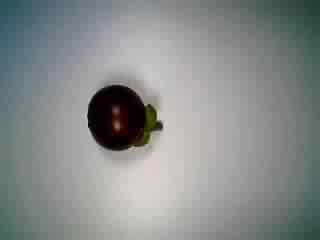mangosteen: (83, 77, 165, 154)
